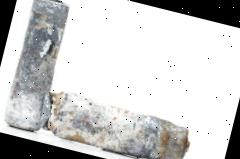electronic: (0, 0, 79, 137)
